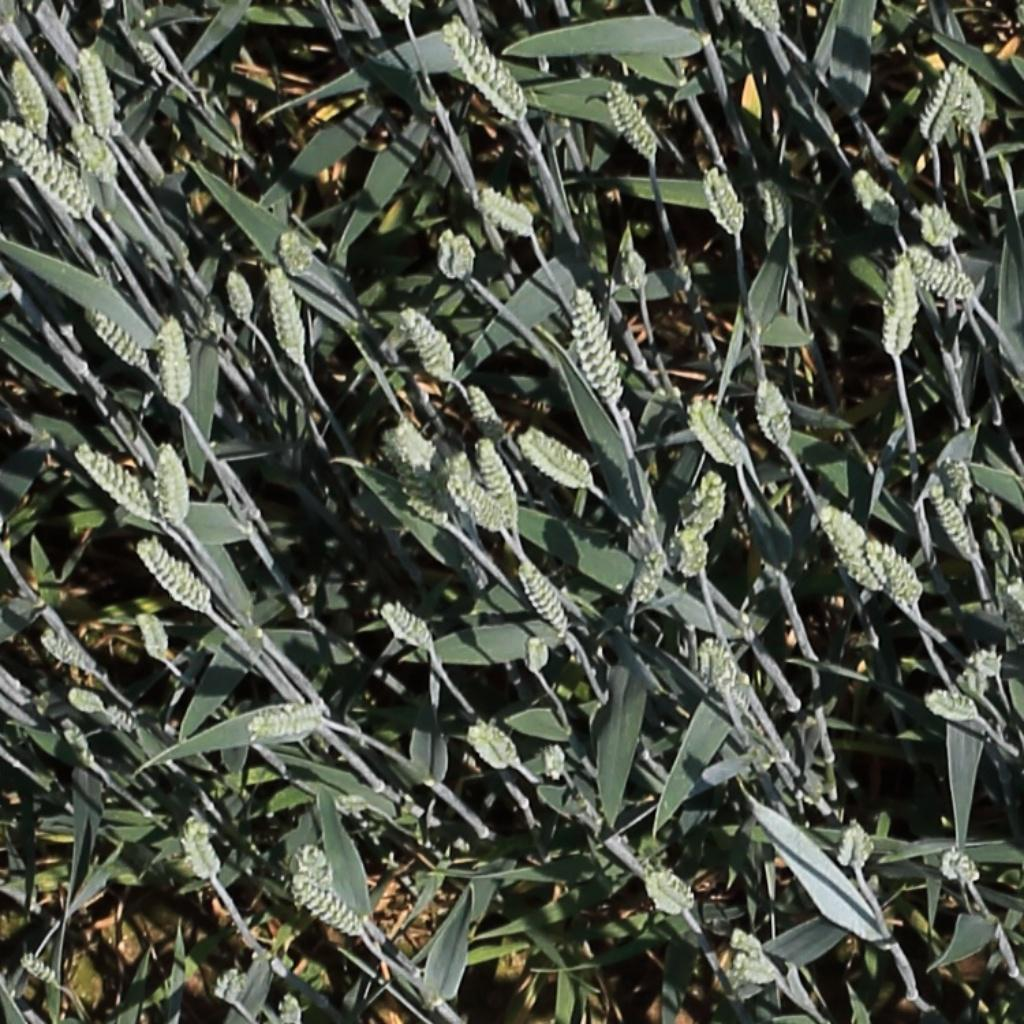0-0: (0, 118, 91, 218), (443, 20, 529, 122), (382, 411, 450, 534), (264, 453, 339, 559), (816, 503, 892, 598), (698, 632, 769, 725), (572, 282, 623, 409), (75, 445, 158, 522), (136, 535, 212, 617), (924, 476, 984, 566), (395, 299, 458, 383), (604, 75, 663, 163), (514, 554, 574, 640), (81, 301, 152, 372), (879, 248, 924, 357), (479, 441, 528, 538), (921, 58, 972, 150), (688, 394, 749, 469), (293, 872, 363, 937), (243, 697, 352, 738), (266, 259, 308, 365), (868, 536, 928, 610), (478, 181, 545, 244), (521, 431, 595, 488), (721, 933, 792, 989), (449, 473, 514, 534), (6, 53, 51, 141), (77, 42, 117, 139), (68, 114, 121, 187), (907, 245, 976, 300), (850, 161, 905, 228), (703, 159, 749, 238), (462, 375, 510, 447), (755, 372, 797, 453), (161, 312, 194, 414), (381, 595, 440, 652), (948, 61, 989, 139), (54, 712, 101, 779), (155, 439, 189, 531), (182, 816, 224, 886), (629, 540, 670, 611), (954, 645, 1003, 704), (39, 633, 102, 678), (692, 465, 729, 539), (126, 23, 174, 80), (466, 722, 521, 771), (132, 604, 172, 669), (435, 225, 476, 283), (221, 263, 258, 327), (647, 873, 699, 916), (277, 221, 315, 279), (922, 684, 981, 720), (676, 518, 708, 584), (920, 195, 958, 249), (760, 170, 789, 238), (943, 453, 974, 516), (731, 0, 782, 38), (843, 817, 873, 879), (212, 962, 249, 1010), (622, 238, 651, 299), (942, 849, 981, 891), (19, 954, 62, 989), (542, 735, 569, 789), (440, 445, 475, 482), (524, 632, 550, 679), (103, 704, 141, 735), (64, 689, 107, 715), (379, 0, 417, 28), (277, 984, 303, 1024)
